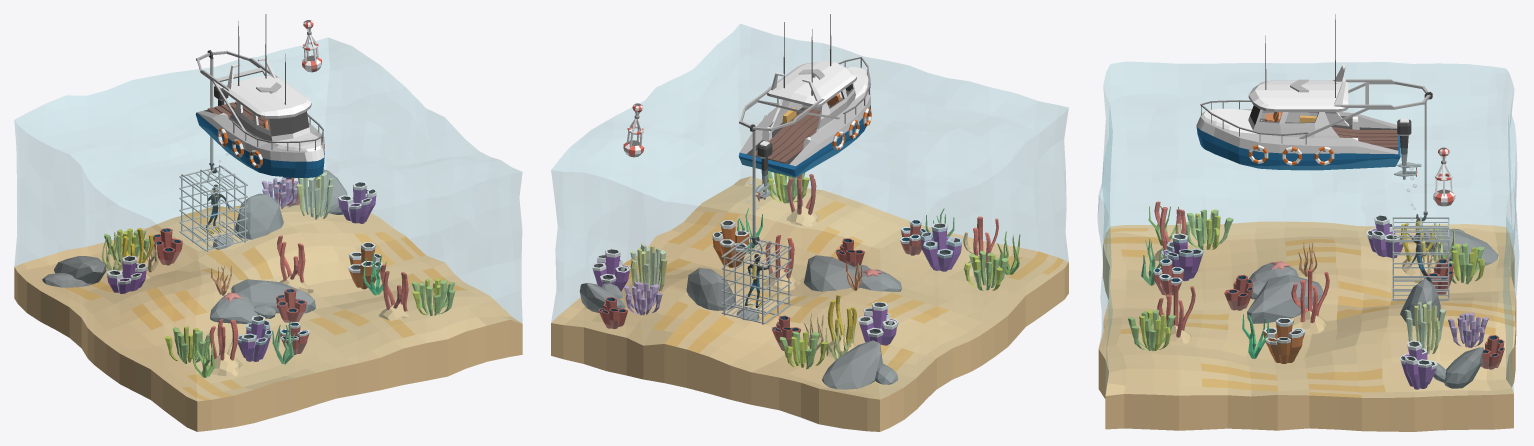
The model's file is diving_scene.glb.
3 views of the same model, side by side, from view 1: azimuth 30°, elevation 25°; view 2: azimuth 150°, elevation 25°; view 3: azimuth 270°, elevation 25° (orthographic). The views are drawn at different scales.
Visible parts, largest first — view 1: Mesh_2, Mesh_7, Mesh_6, Mesh_8; view 2: Mesh_2, Mesh_7, Mesh_6, Mesh_8; view 3: Mesh_2, Mesh_7, Mesh_6, Mesh_8.
Boxes of the visible parts, x1,y1,x2,y2 form: Mesh_2: (14,37,522,400); Mesh_7: (14,169,522,431); Mesh_6: (179,14,324,251); Mesh_8: (302,20,321,72); Mesh_2: (551,24,1068,398); Mesh_7: (551,171,1068,431); Mesh_6: (721,14,871,324); Mesh_8: (623,103,644,157); Mesh_2: (1097,62,1518,397); Mesh_7: (1098,201,1516,431); Mesh_6: (1196,14,1449,300); Mesh_8: (1433,147,1455,206).
Size of the model in its own units: 40.87 by 34.84 by 40.37.
Materials: 3 (1 with a texture image).
